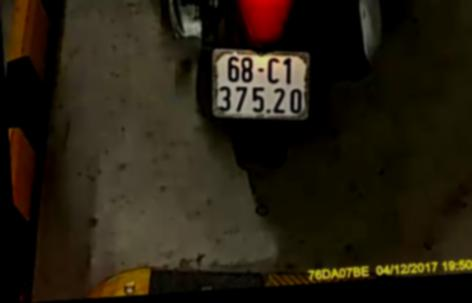License_Plate: (207, 39, 315, 128)
